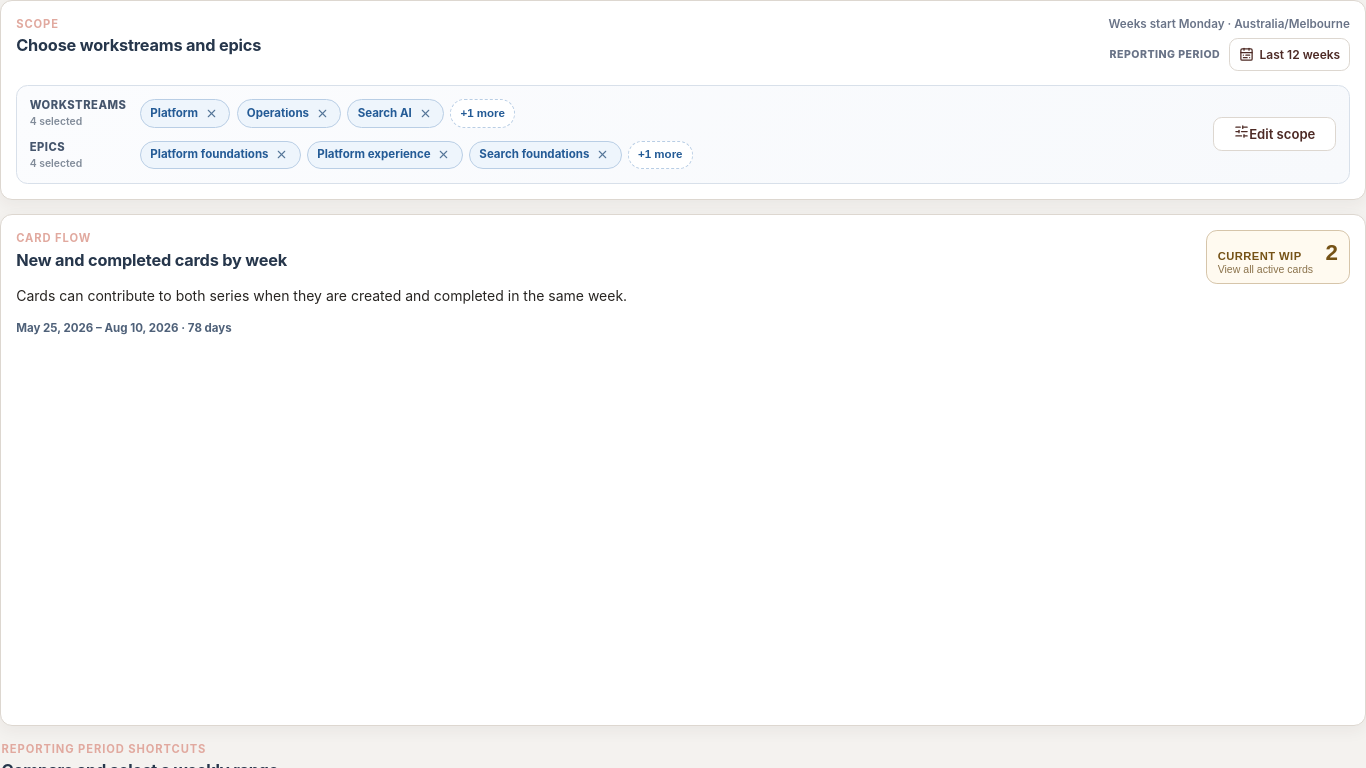
InitiativeDeepDiveScreen › shows named scope pills, collapses overflow, and supports direct removal
Expected: the button named "Remove epic Platform foundations" is shown, x1=273 y1=146 x2=291 y2=164
Expected: the button named "Remove workstream Platform" is shown, x1=203 y1=105 x2=220 y2=122
Click the button "+1 more" next to "Search AI". click: [483, 113]
box: x1=450 y1=99 x2=515 y2=128
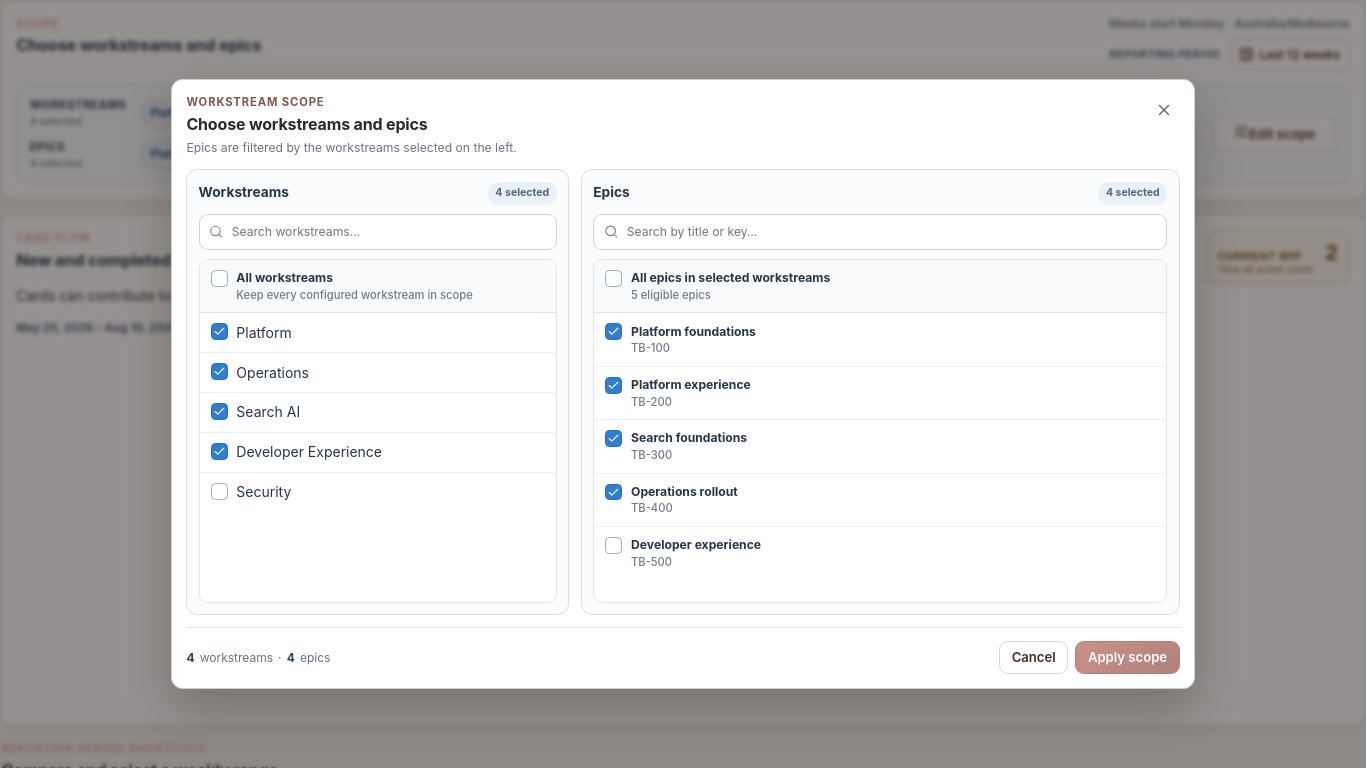
Expected: the dialog "Choose workstreams and epics" is shown
Click the button "Cancel". click: [1034, 657]
box: x1=999 y1=641 x2=1068 y2=674
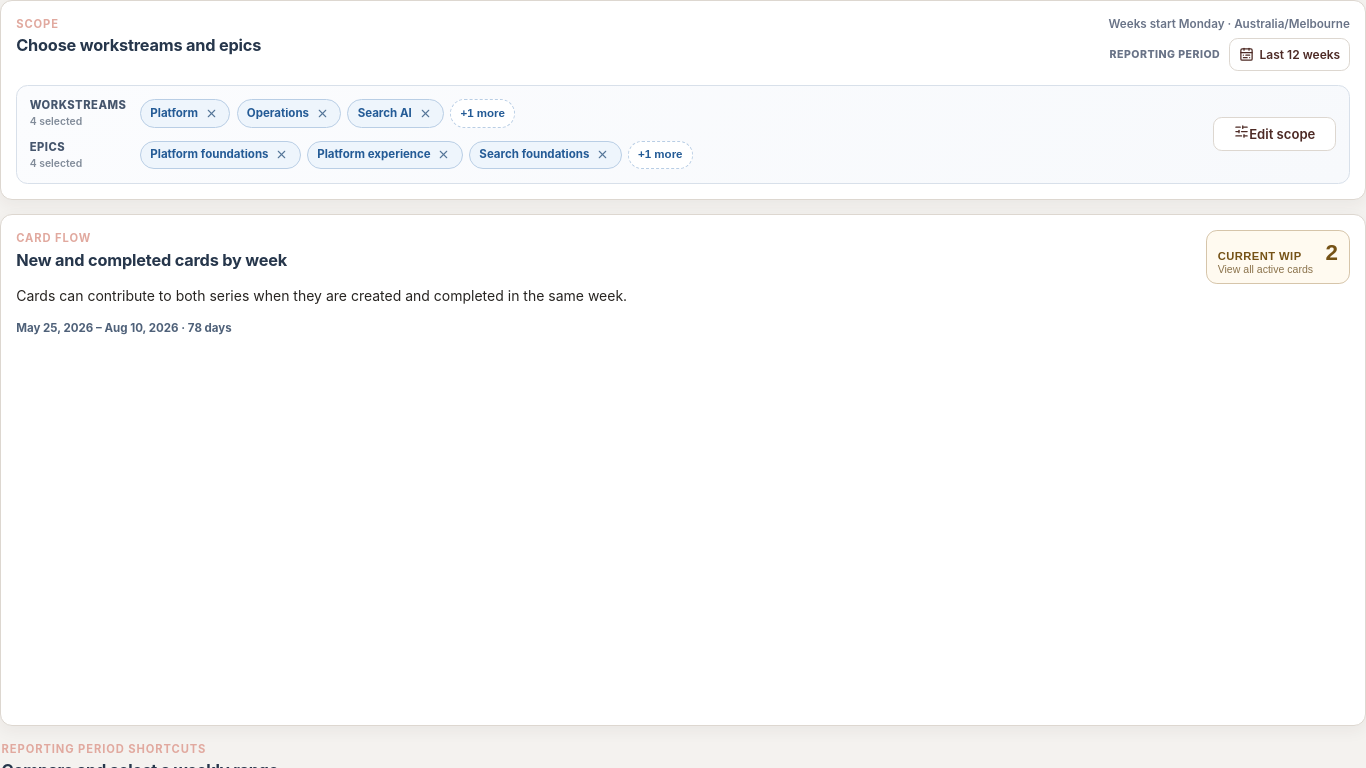
Click the button named "Remove epic Platform foundations". click: [282, 155]
box: x1=273 y1=146 x2=291 y2=164
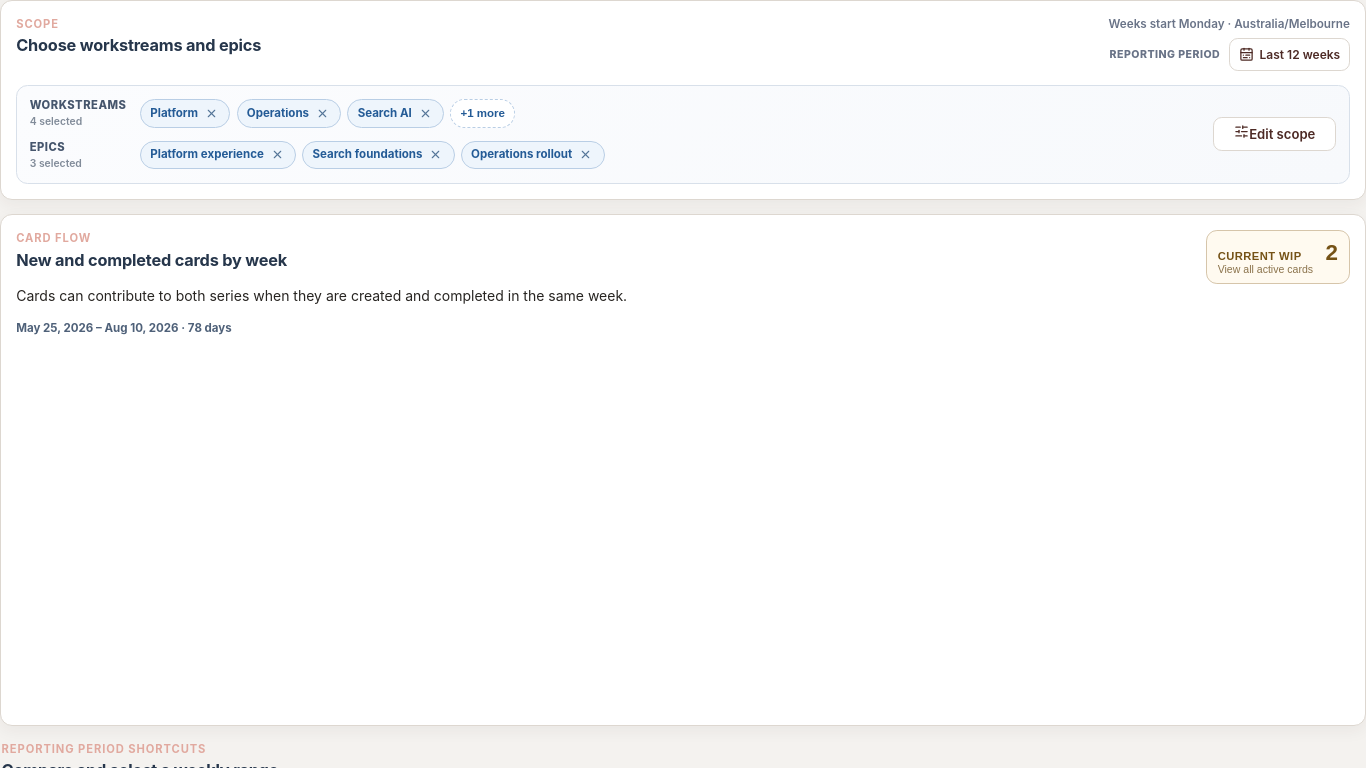
Click the button named "Remove workstream Platform". click: [211, 113]
box: x1=203 y1=105 x2=220 y2=122
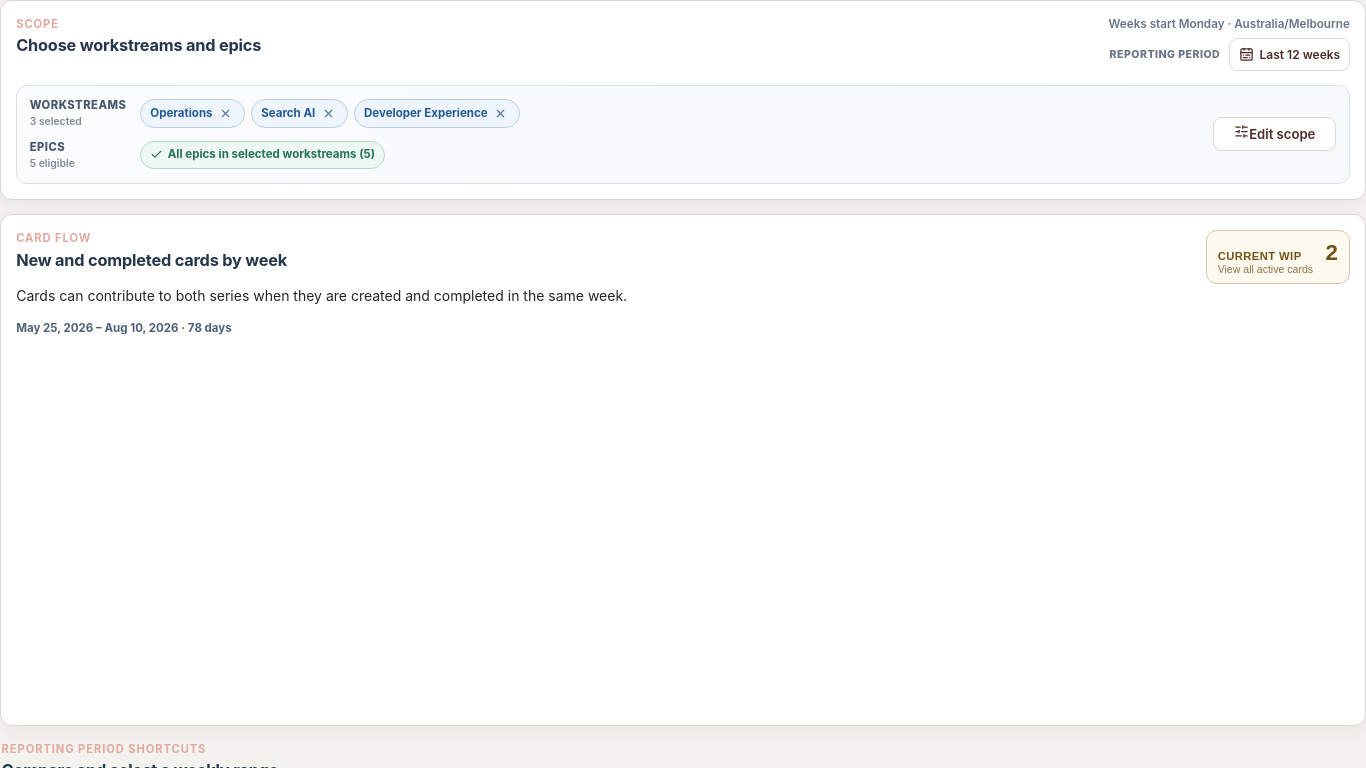
Expected: the button "Remove workstream Platform" is gone
